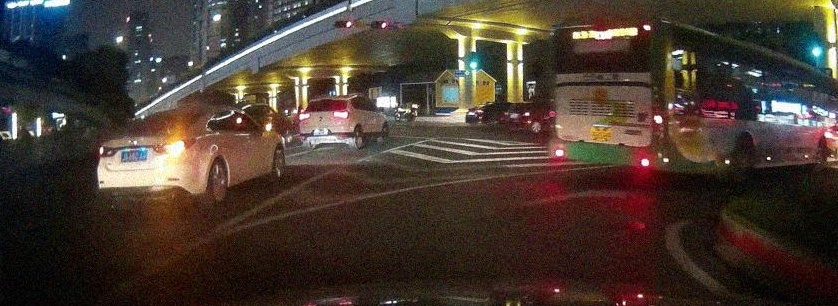L_light: (98, 145, 119, 158), (548, 97, 556, 131), (299, 113, 310, 120)
R_light: (151, 136, 196, 156), (653, 106, 664, 137), (333, 110, 349, 118)
T_light: (160, 114, 172, 118), (592, 26, 608, 29), (322, 99, 331, 101)
night-no: (298, 95, 352, 149)
night-right: (547, 14, 663, 185), (96, 105, 202, 222)
